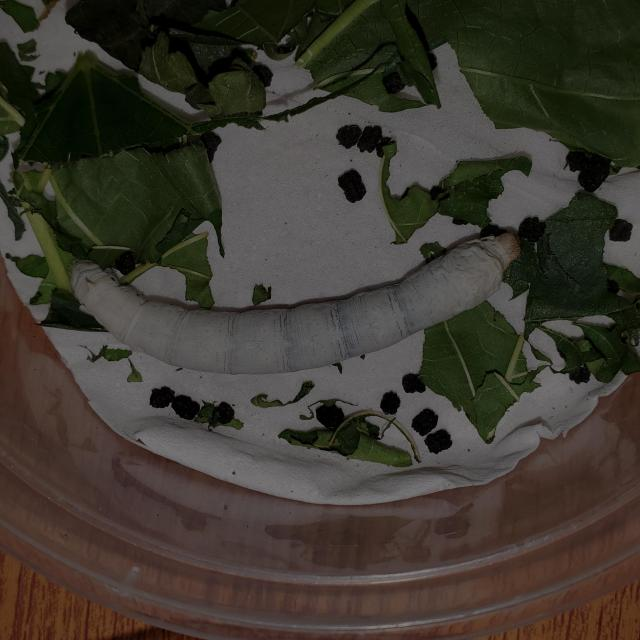Healthy: (47, 208, 567, 392)
